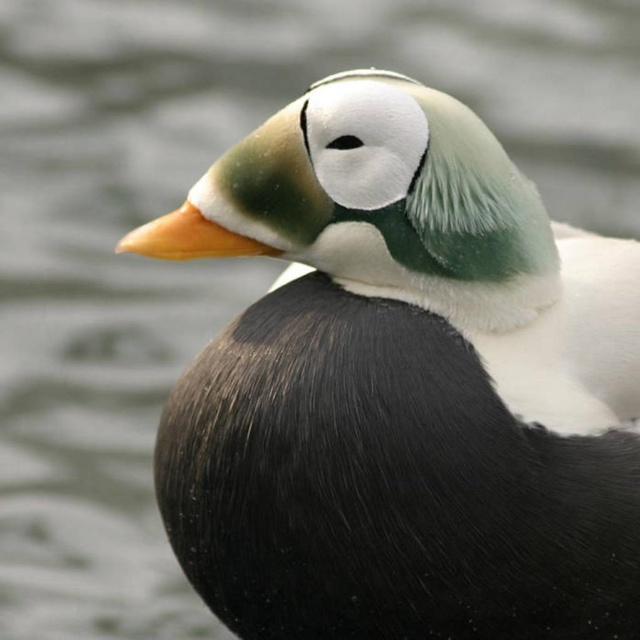Duck: (112, 82, 606, 640)
